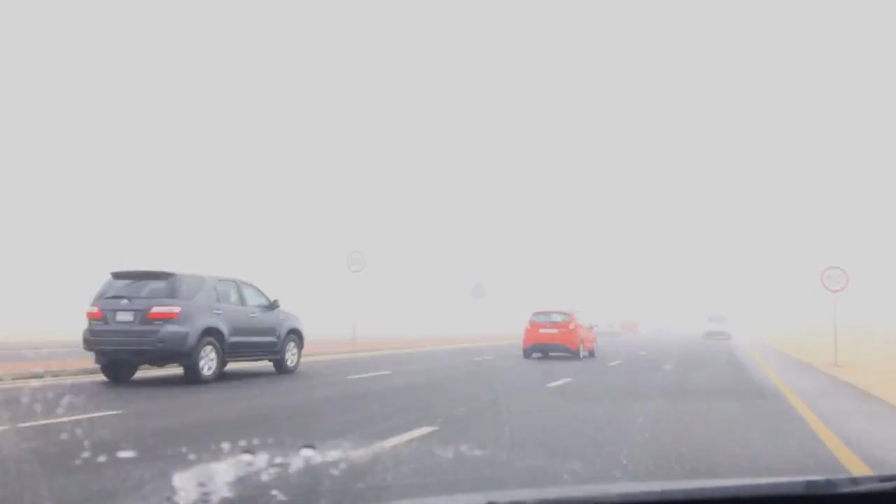car: (82, 268, 307, 386), (522, 308, 602, 359), (700, 315, 734, 342)
